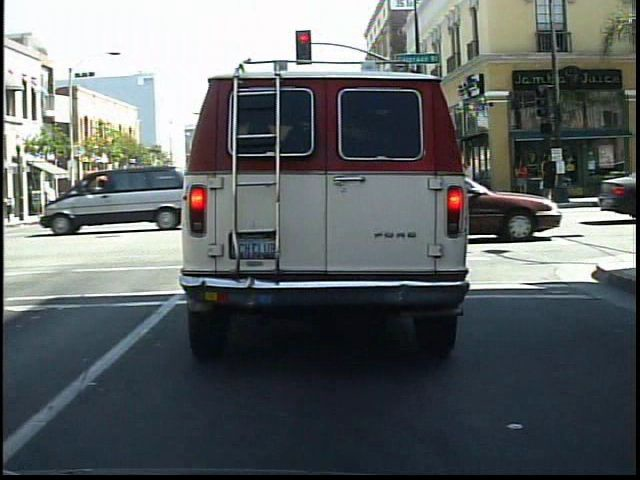person: (538, 152, 562, 205), (512, 156, 534, 199)
